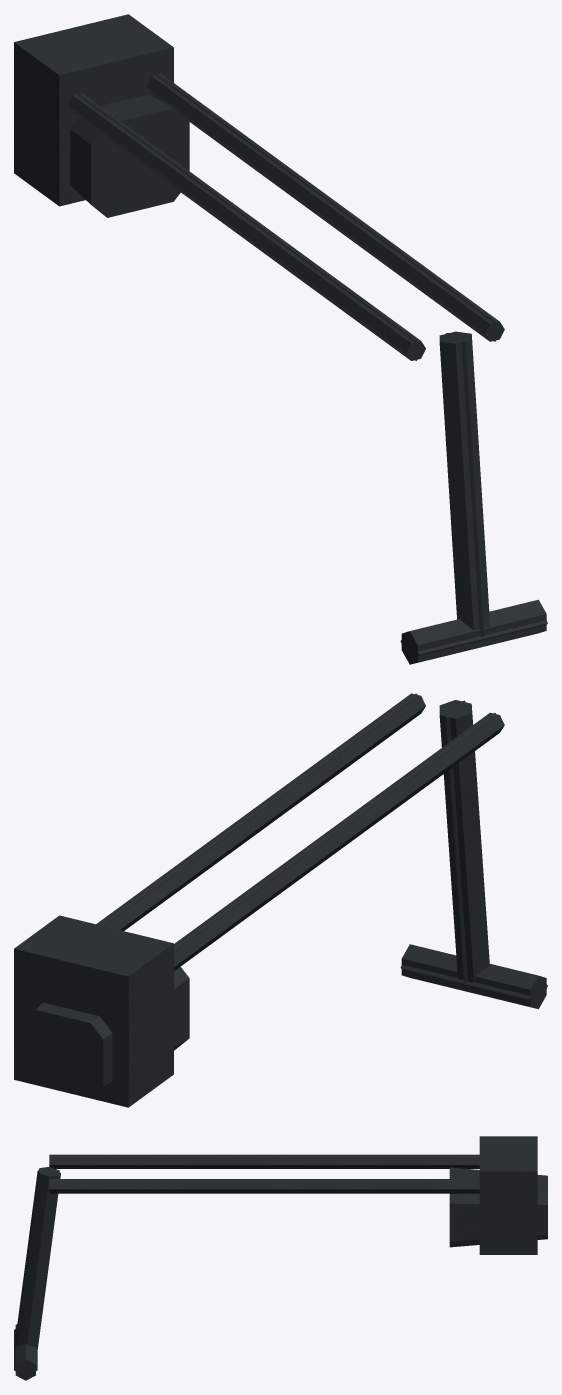
Rendered from ar_wire.glb.
3 views of the same model, one above another, from view 1: azimuth 30°, elevation 25°; view 2: azimuth 150°, elevation 25°; view 3: azimuth 270°, elevation 25° (orthographic). The views are drawn at different scales.
Parts seen in each view (by area): view 1: stock__ar_wire_LOD0_RAID_Secondary_Original_steel, stock__ar_wire_LOD1_RAID_Secondary_Original_steel; view 2: stock__ar_wire_LOD0_RAID_Secondary_Original_steel, stock__ar_wire_LOD1_RAID_Secondary_Original_steel; view 3: stock__ar_wire_LOD0_RAID_Secondary_Original_steel, stock__ar_wire_LOD1_RAID_Secondary_Original_steel.
Part boxes in pixels (x1=…): stock__ar_wire_LOD0_RAID_Secondary_Original_steel: x1=14, y1=14, x2=546, y2=664; stock__ar_wire_LOD1_RAID_Secondary_Original_steel: x1=76, y1=73, x2=547, y2=663; stock__ar_wire_LOD0_RAID_Secondary_Original_steel: x1=14, y1=693, x2=546, y2=1107; stock__ar_wire_LOD1_RAID_Secondary_Original_steel: x1=99, y1=693, x2=547, y2=1008; stock__ar_wire_LOD0_RAID_Secondary_Original_steel: x1=15, y1=1136, x2=547, y2=1380; stock__ar_wire_LOD1_RAID_Secondary_Original_steel: x1=14, y1=1155, x2=479, y2=1370.
Size of the model in its own units: 0.072 by 0.174 by 0.407.
1 material, 1 textured.
